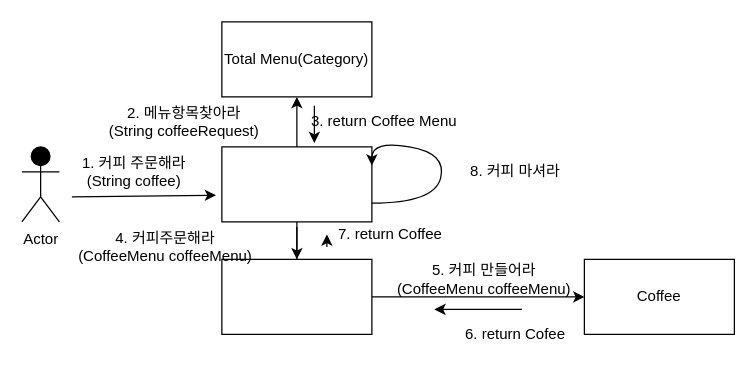
Some shapes in this 756 by 369 pixel diagram are drawn without their labels. Here are the shapes that lost their labels. From the top down, the centre of each, then its label:
the point at 296,184: Customer
the point at 296,296: Barista
